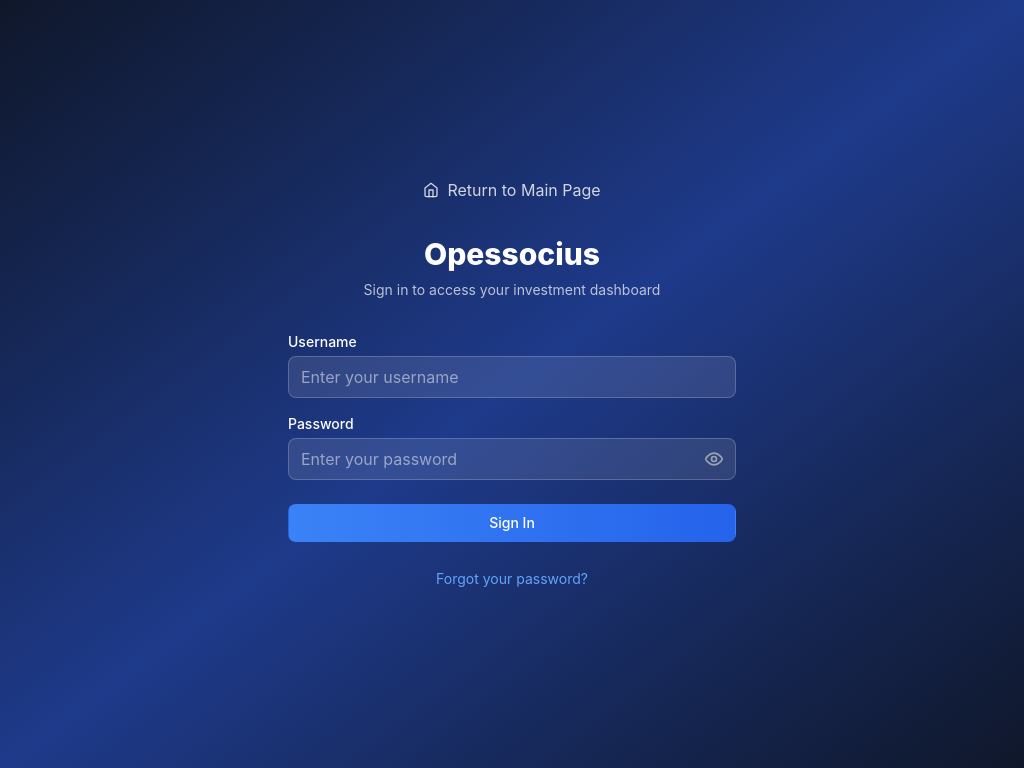
End-to-End User Flows › Login Flow › should show error for invalid credentials
// Fill form with invalid credentials
Type "invalid" into the field labelled "Username" at {"x": 512, "y": 377}, box top-left (288, 356), bottom-right (736, 398)
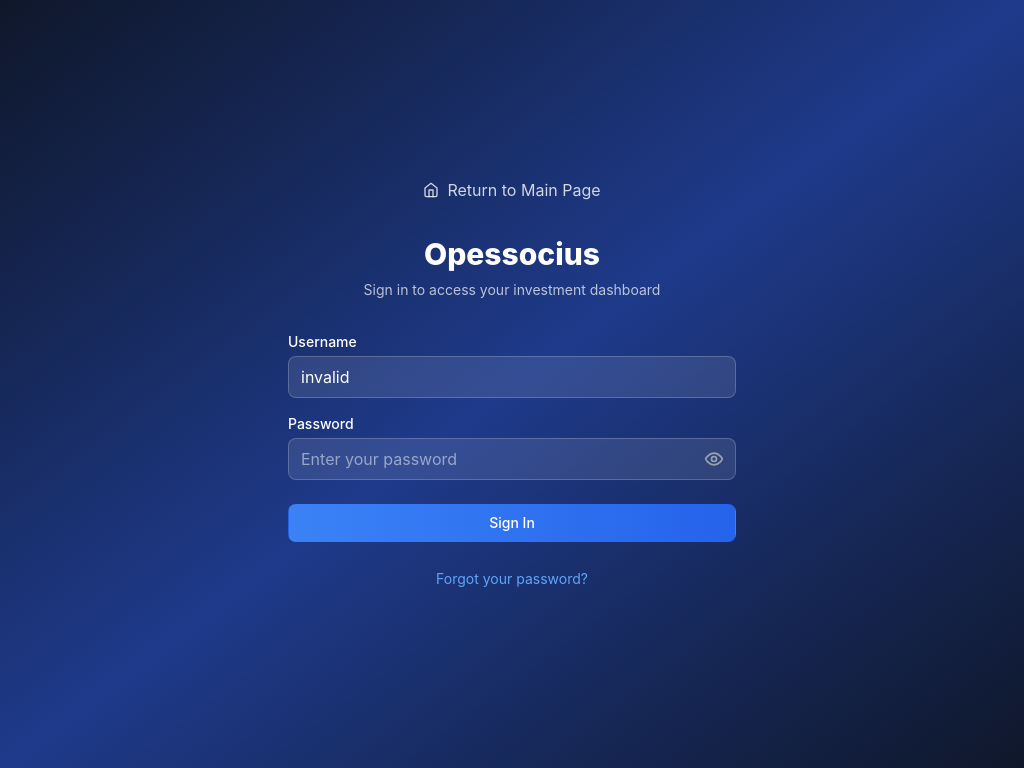
Type "invalid" into the password field labelled "Password" at {"x": 512, "y": 459}, box top-left (288, 438), bottom-right (736, 480)
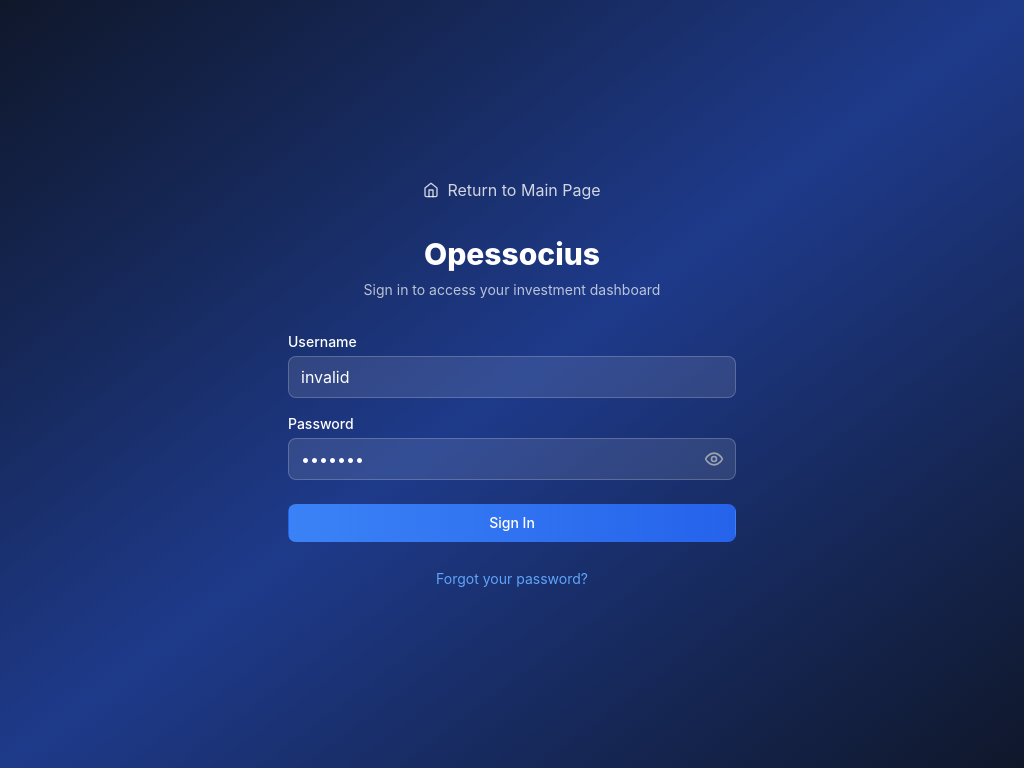
Click the button "Sign In" at {"x": 512, "y": 523}, box top-left (288, 504), bottom-right (736, 542)
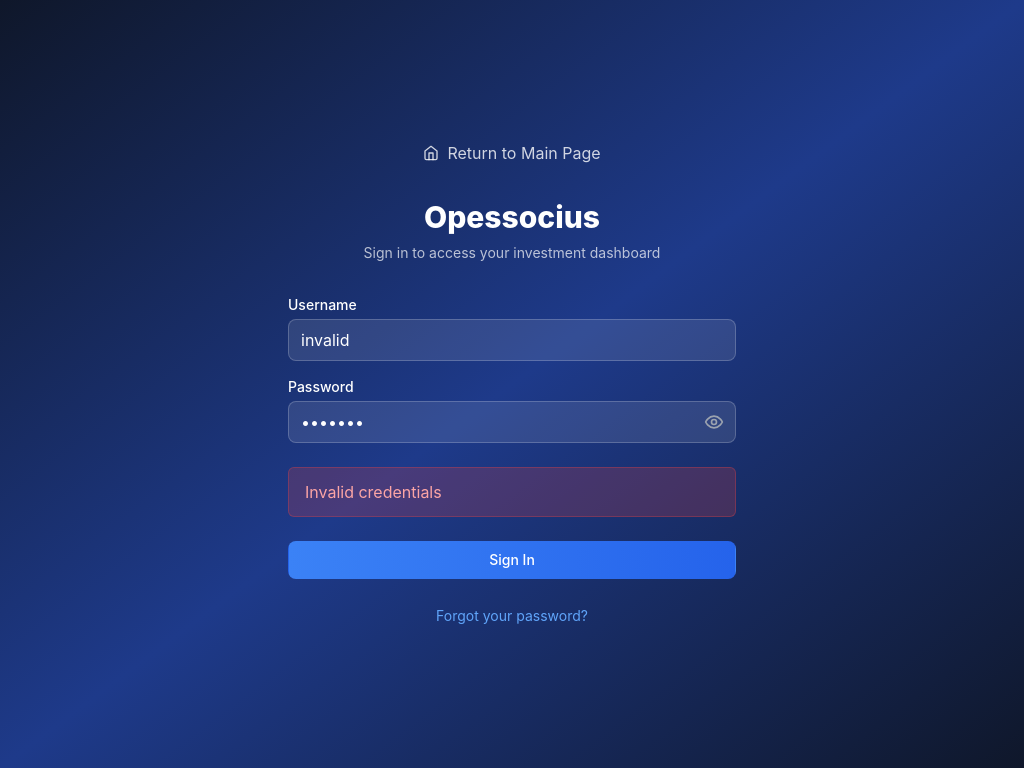
Result: the text "Invalid credentials" is shown at top-left (288, 467), bottom-right (736, 517)
